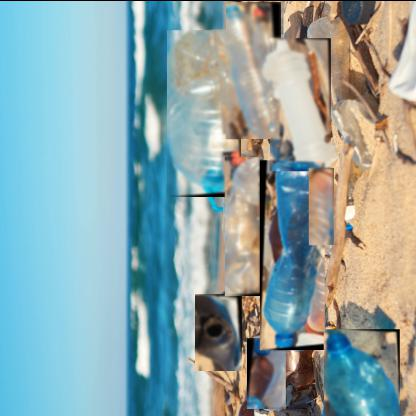bottle: (260, 158, 326, 349), (167, 28, 242, 196), (270, 36, 332, 170), (226, 0, 282, 138), (324, 327, 402, 415), (225, 155, 264, 295), (195, 292, 243, 370), (247, 336, 287, 408), (309, 166, 335, 244)
